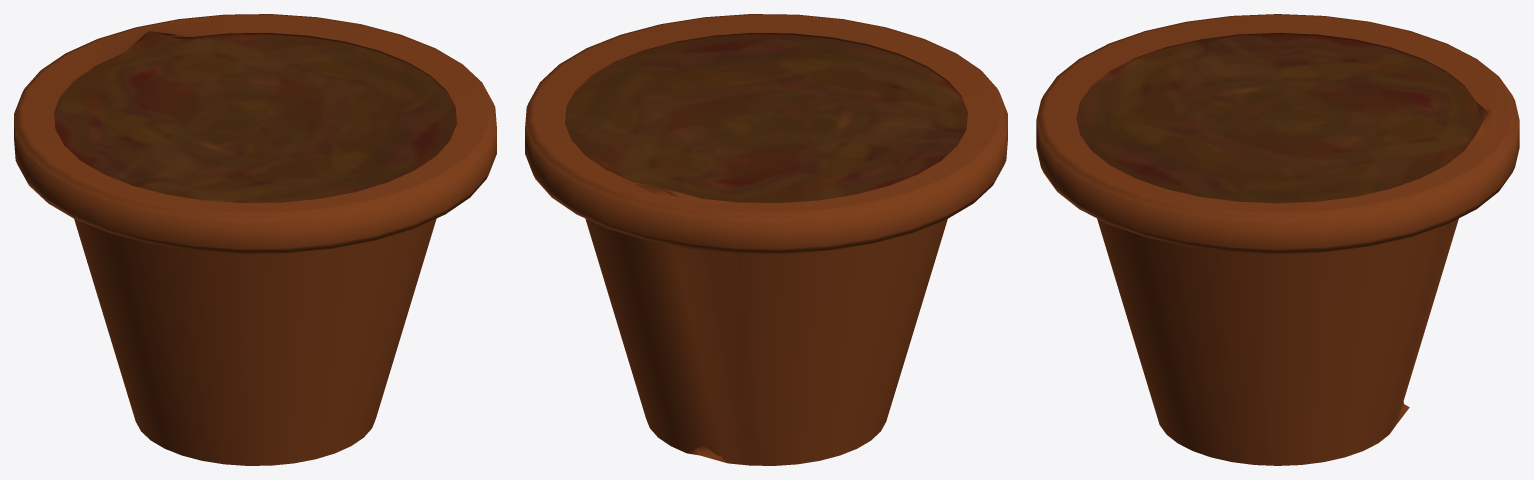
Rendered from vaso2passado.glb.
3 renders of one model, left to right at view 1: azimuth 30°, elevation 25°; view 2: azimuth 150°, elevation 25°; view 3: azimuth 270°, elevation 25°, orthographic.
Parts seen in each view (by area): view 1: vaso.001, terra.002; view 2: vaso.001, terra.002; view 3: vaso.001, terra.002.
Part boxes in pixels (<box>): vaso.001: <box>14,14,496,465</box>; terra.002: <box>54,34,456,202</box>; vaso.001: <box>525,14,1007,465</box>; terra.002: <box>565,34,967,202</box>; vaso.001: <box>1036,14,1519,465</box>; terra.002: <box>1076,34,1480,203</box>.
Bounding box in the file's own units: 2.87 × 2 × 2.87.
2 materials, 2 textured.
